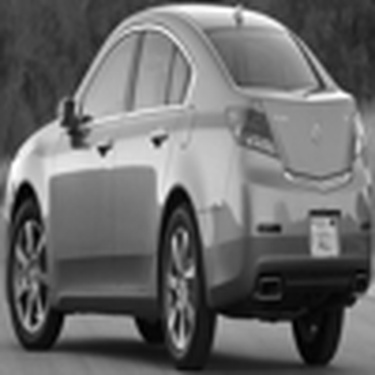car: (1, 5, 362, 352)
